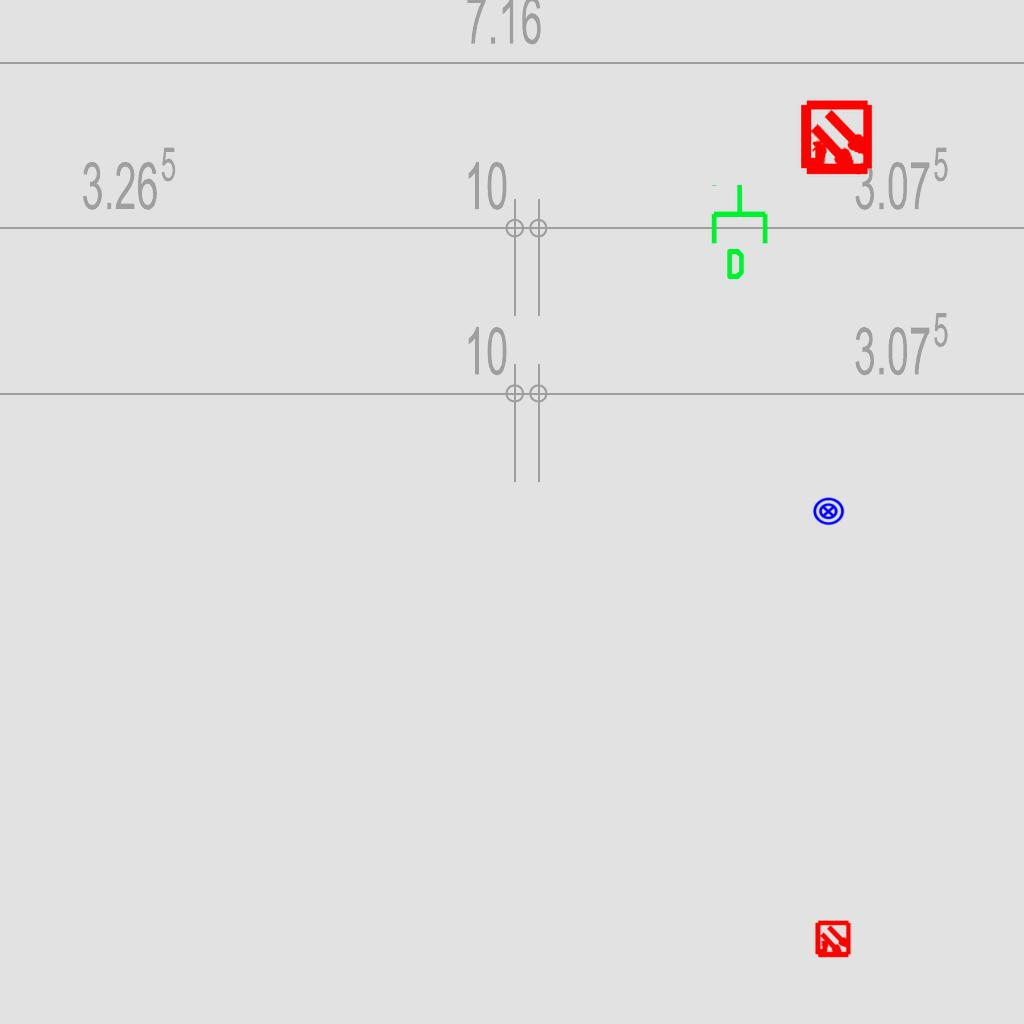Datenanschluss_einfach: (707, 182, 776, 282)
OT_Multisensormelder_(Kombination_RMO_WMD): (780, 83, 893, 196), (805, 912, 861, 968)
Taster_beleuchtet: (812, 495, 845, 528)
